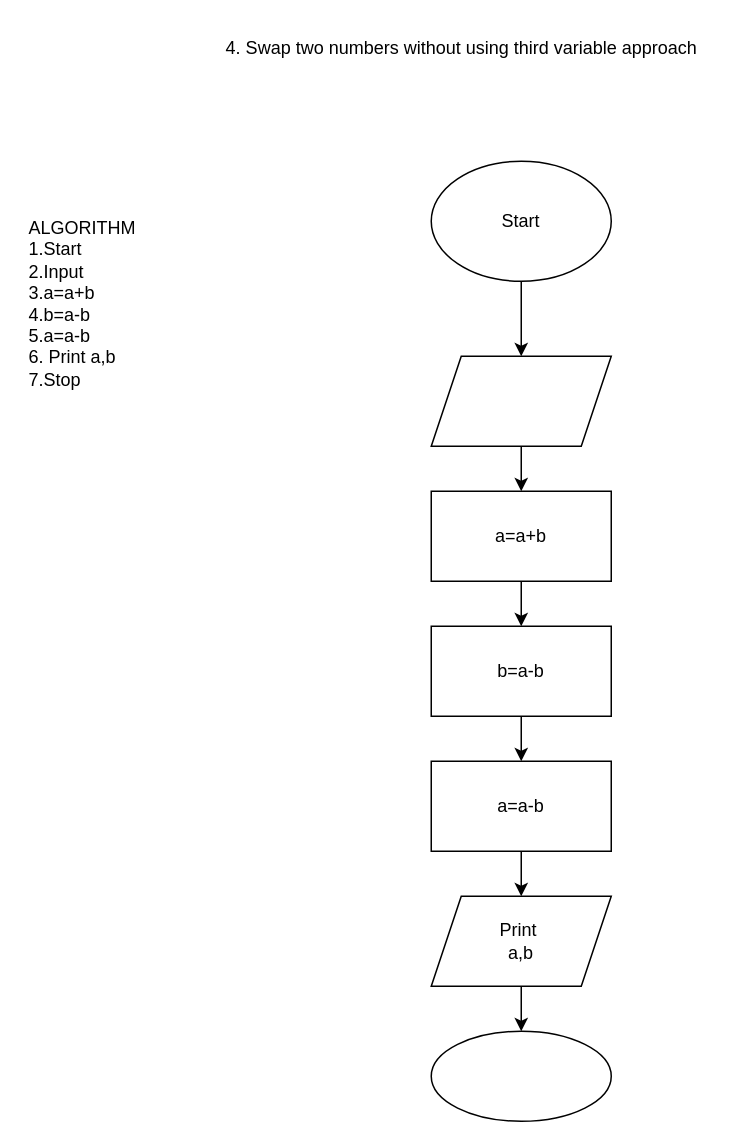
This 741x1148 diagram has some shape labels left out. The centre of each missing label's shape, as x and y in pixels:
input a,b: pixel 520 400
Stop: pixel 520 1075
